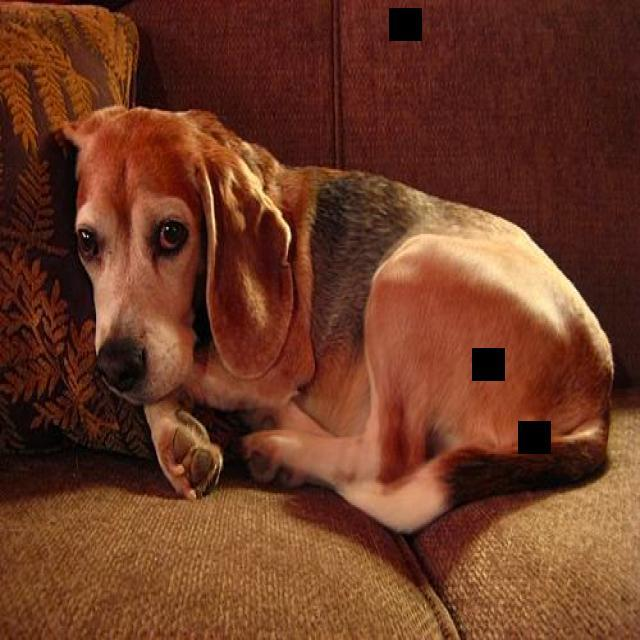adult_dog: (53, 103, 616, 534)
